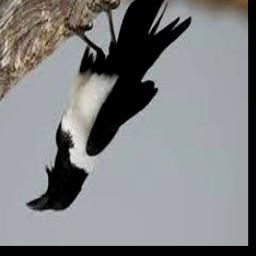Crow: (25, 0, 193, 213)
